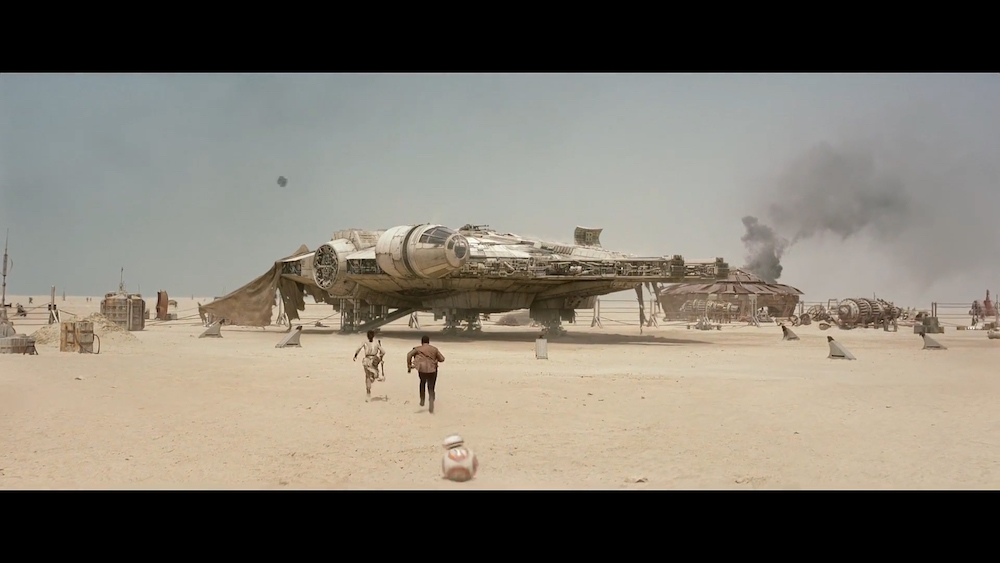Millennium Falcon: (274, 224, 730, 309)
Tie Fighter: (278, 177, 288, 188)
